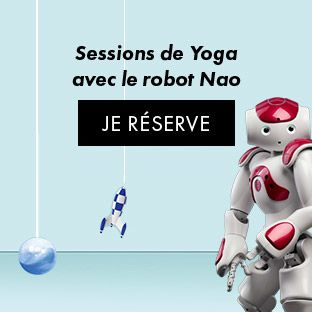nao: (211, 94, 312, 312)
